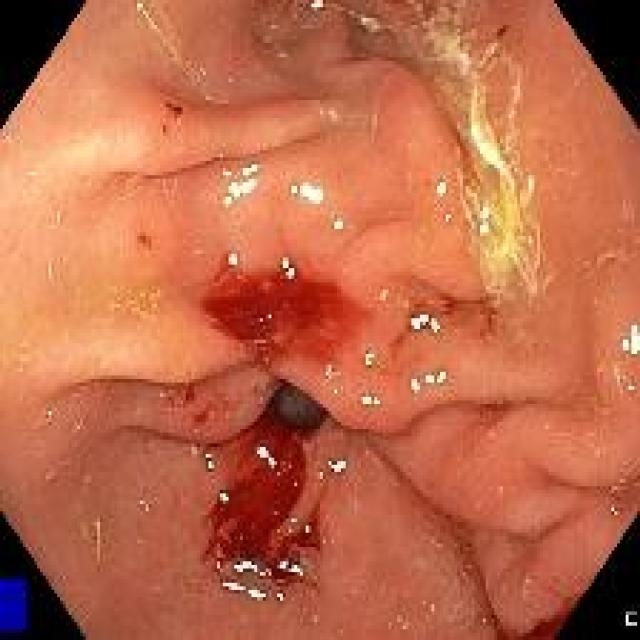blood: (204, 408, 317, 591), (205, 263, 362, 369)
bubbles: (607, 497, 624, 519)
color misalignment: (0, 577, 29, 632)
specularity: (212, 558, 311, 606), (218, 156, 264, 218), (406, 363, 447, 397), (281, 179, 326, 206), (408, 308, 445, 340), (619, 318, 639, 360), (315, 456, 345, 484), (473, 201, 493, 240), (321, 363, 344, 395), (279, 252, 298, 287), (359, 389, 386, 413), (286, 513, 309, 537), (434, 174, 452, 201), (201, 446, 218, 474), (223, 246, 239, 275), (256, 444, 275, 467), (621, 376, 639, 398), (362, 343, 376, 370), (327, 215, 347, 233), (217, 488, 231, 512), (437, 210, 456, 223), (309, 1, 328, 14), (41, 403, 54, 421), (610, 503, 615, 515)
